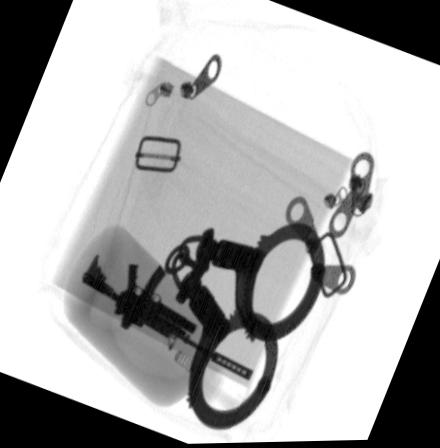Gun: (76, 250, 253, 383)
HandCuffs: (162, 225, 324, 433)
